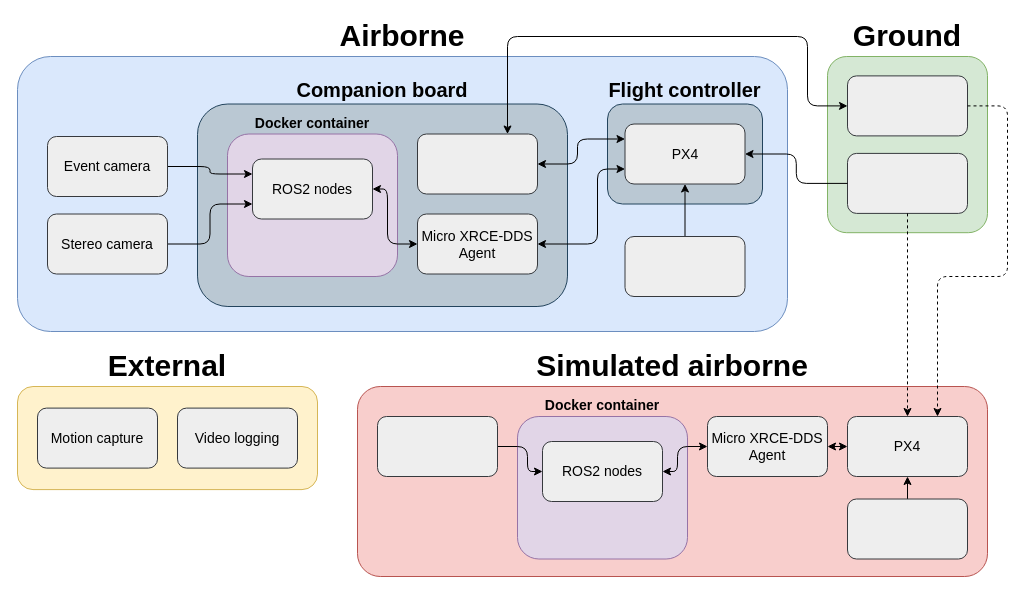
Some shapes in this 1033 by 594 pixel diagram are drawn without their labels. Each missing label, with the centre of its shape:
"MAVLink Router" goes at (x=477, y=163).
"Optical flow & range sensor" goes at (x=684, y=266).
"QGroundcontrol" goes at (x=907, y=105).
"Remote" goes at (x=907, y=182).
"Various cameras" goes at (x=437, y=446).
"Various sensors" goes at (x=907, y=528).
